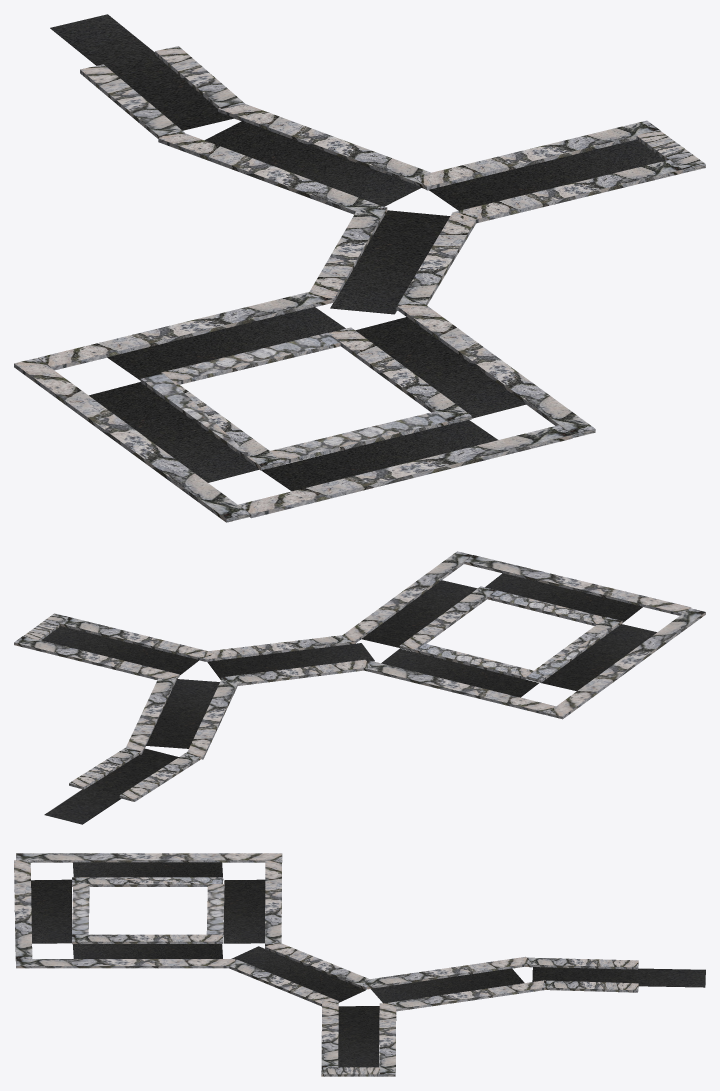
File: calles_banquetas1.obj
3 views of the same model, one above another, from view 1: azimuth 30°, elevation 25°; view 2: azimuth 150°, elevation 25°; view 3: azimuth 270°, elevation 25° (orthographic). The views are drawn at different scales.
Visible parts, largest first — view 1: Cube.001_Cube.003, Cube.006_Cube.013, Cube.003_Cube.006, Cube.005_Cube.012, Cube.007_Cube.014, Cube.004_Cube.007, Cube.008_Cube.015, Cube.002_Cube.011, Cube_Cube.001, Cube_Cube.005_Cube_Cube.006, Cube_Cube.004_Cube_Cube.005, Cube_Cube.002 (+13 smaller); view 2: Cube.001_Cube.003, Cube.007_Cube.014, Cube.003_Cube.006, Cube.005_Cube.012, Cube.004_Cube.007, Cube.006_Cube.013, Cube.002_Cube.011, Cube.008_Cube.015, Cube_Cube.001, Cube_Cube.005_Cube_Cube.006, Cube_Cube.004_Cube_Cube.005, Cube_Cube.002 (+13 smaller); view 3: Cube.001_Cube.003, Cube.004_Cube.007, Cube.002_Cube.011, Cube_Cube.001, Cube.008_Cube.015, Cube.006_Cube.013, Cube.007_Cube.014, Cube.005_Cube.012, Cube.003_Cube.006, Cube_Cube.002, Cube_Cube.005_Cube_Cube.006, Cube_Cube.010_Cube_Cube.012 (+13 smaller).
Boxes of the visible parts, x1,y1,x2,y2 form: Cube.001_Cube.003: (50,14,234,130); Cube.006_Cube.013: (330,210,450,314); Cube.003_Cube.006: (355,317,526,418); Cube.005_Cube.012: (89,382,259,482); Cube.007_Cube.014: (204,121,421,206); Cube.004_Cube.007: (107,307,345,380); Cube.008_Cube.015: (429,139,665,210); Cube.002_Cube.011: (261,420,497,491); Cube_Cube.001: (14,358,249,522); Cube_Cube.005_Cube_Cube.006: (238,425,572,518); Cube_Cube.004_Cube_Cube.005: (38,292,332,370); Cube_Cube.002: (398,300,595,437); Cube.001_Cube.003: (44,748,178,824); Cube.007_Cube.014: (146,679,219,748); Cube.003_Cube.006: (361,580,477,647); Cube.005_Cube.012: (540,624,656,691); Cube.004_Cube.007: (381,648,538,697); Cube.006_Cube.013: (207,643,374,679); Cube.002_Cube.011: (485,573,642,622); Cube.008_Cube.015: (41,626,199,675); Cube_Cube.001: (547,608,705,719); Cube_Cube.005_Cube_Cube.006: (464,555,691,615); Cube_Cube.004_Cube_Cube.005: (364,660,555,715); Cube_Cube.002: (339,551,472,642); Cube.001_Cube.003: (532,967,705,987); Cube.004_Cube.007: (223,879,265,943); Cube.002_Cube.011: (31,879,71,943); Cube_Cube.001: (16,853,282,862); Cube.008_Cube.015: (338,1006,379,1067); Cube.006_Cube.013: (231,946,365,1002); Cube.007_Cube.014: (371,968,524,1003); Cube.005_Cube.012: (72,862,223,879); Cube.003_Cube.006: (72,944,222,958); Cube_Cube.002: (16,959,235,968); Cube_Cube.005_Cube_Cube.006: (14,860,32,960); Cube_Cube.010_Cube_Cube.012: (363,956,530,989).
Size of the model in its own units: 3496 by 19.62 by 4622.
25 materials, 25 textured.
